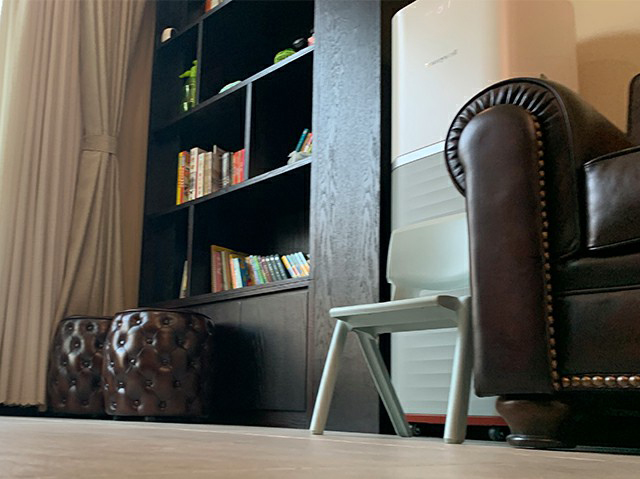cabinet: (147, 1, 396, 432)
curtain: (1, 1, 148, 411)
sofa: (443, 74, 640, 454)
stool: (308, 211, 473, 444), (98, 306, 217, 426), (44, 315, 113, 419)
